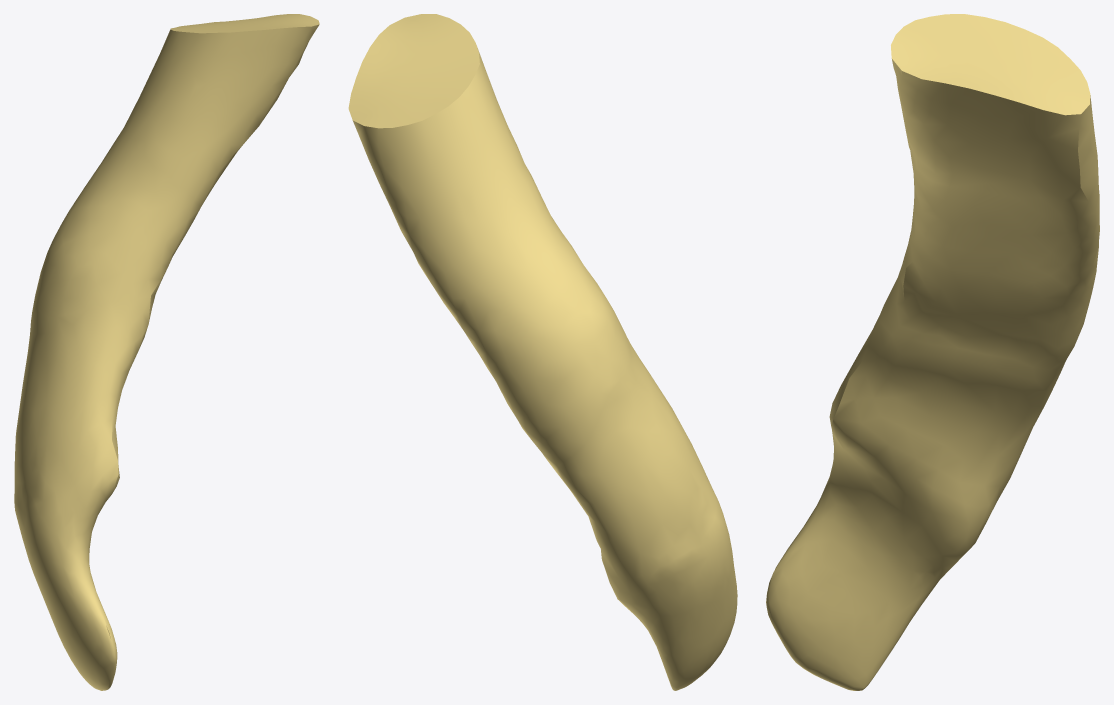
The model's file is fma73390_mm2994.glb.
3 views of the same model, side by side, from view 1: azimuth 30°, elevation 25°; view 2: azimuth 150°, elevation 25°; view 3: azimuth 270°, elevation 25° (orthographic). The views are drawn at different scales.
Visible parts, largest first — view 1: FMA73390_MM2994; view 2: FMA73390_MM2994; view 3: FMA73390_MM2994.
Boxes of the visible parts, bbox=[...] form: FMA73390_MM2994: bbox=[14, 14, 319, 690]; FMA73390_MM2994: bbox=[348, 14, 737, 690]; FMA73390_MM2994: bbox=[766, 14, 1099, 690].
Size of the model in its own units: 0.007 by 0.0133 by 0.00511.
